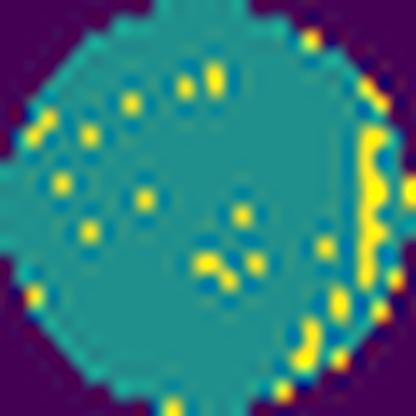Scratch: (352, 117, 396, 293)
